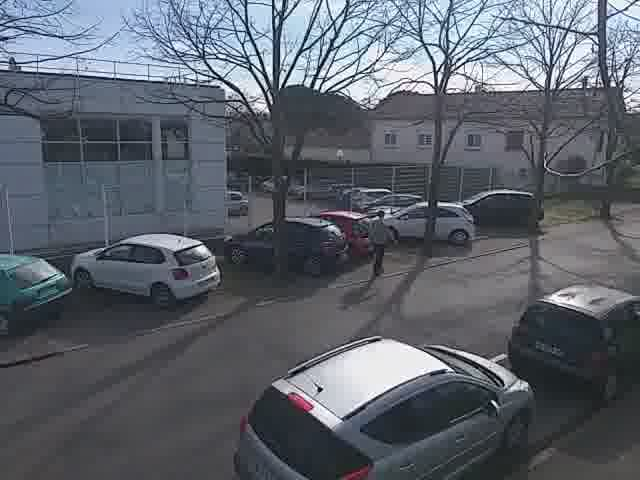persona: (362, 201, 397, 281)
